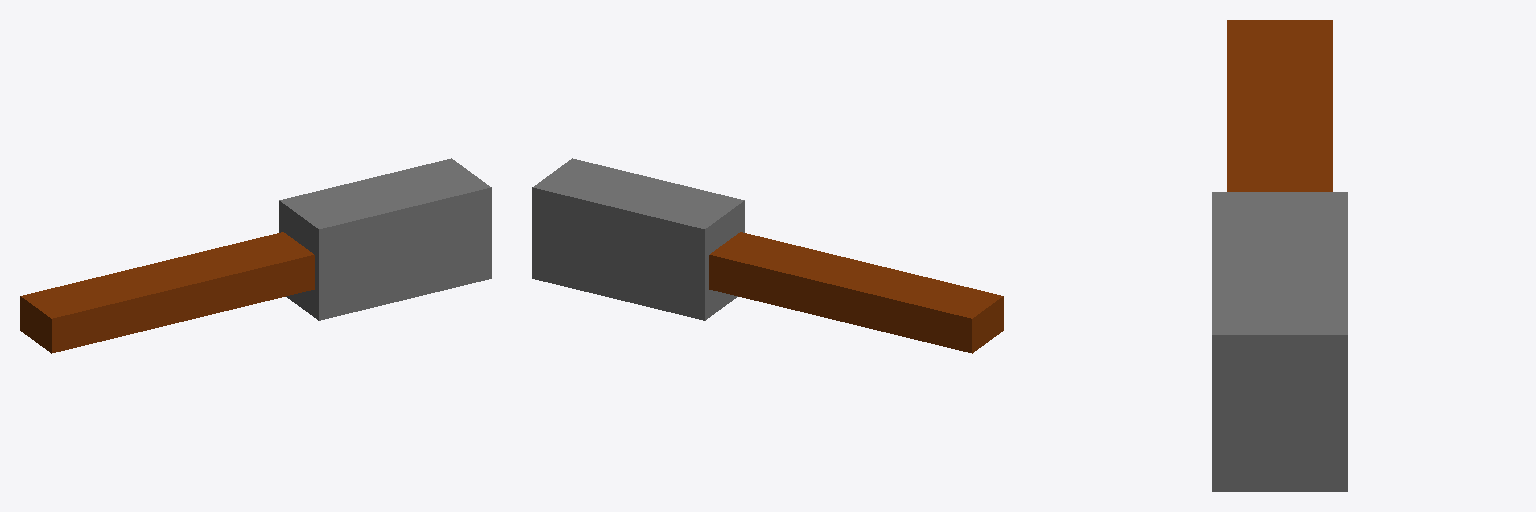
robot.urdf — handle_head:
<?xml version="1.0"?>
<robot name="handle_head">

  <link name="handle_head">
    <!-- Handle -->
    <visual>
              <origin xyz="0 0 0" rpy="0 0 0"/>
        <geometry>
          <box size="0.17683162306074118 0.03630532091203213 0.022363870697693113"/>
        </geometry>
        
      <material name="brown">
        <color rgba="0.55 0.27 0.07 1.0"/>
      </material>
    </visual>
    <collision>
              <origin xyz="0 0 0" rpy="0 0 0"/>
        <geometry>
          <box size="0.17683162306074118 0.03630532091203213 0.022363870697693113"/>
        </geometry>
        
    </collision>

    <!-- Head -->
    <visual>
              <origin xyz="0.14640592661034302 0 0" rpy="0 0 0"/>
        <geometry>
          <box size="0.11598023015994488 0.046339686630834626 0.05868996367776777"/>
        </geometry>
        
      <material name="gray">
        <color rgba="0.5 0.5 0.5 1.0"/>
      </material>
    </visual>
    <collision>
              <origin xyz="0.14640592661034302 0 0" rpy="0 0 0"/>
        <geometry>
          <box size="0.11598023015994488 0.046339686630834626 0.05868996367776777"/>
        </geometry>
        
    </collision>

    <inertial>
      <origin xyz="0.09537635942342765 0 0" rpy="0 0 0"/>
      <mass value="0.14836521239029285"/>
      <inertia ixx="5.2874580569158506e-05" iyy="0.0009950889752460015" izz="0.0009881660357426107" ixy="0" ixz="0" iyz="0"/>
    </inertial>
  </link>

</robot>

--- What the picture shows (computed from the rendered views, not written in the file) ---
Views: 3 orthographic renders of the robot side by side, from view 1: azimuth 30°, elevation 25°; view 2: azimuth 150°, elevation 25°; view 3: azimuth 270°, elevation 25°.
Model handle_head with 1 links and 0 joints (none), rooted at handle_head, posed all joints at 0.
Visible links, largest first — view 1: handle_head; view 2: handle_head; view 3: handle_head.
Link boxes in pixels (x1,y1,x2,y2): handle_head: (20,158,491,353); handle_head: (532,158,1003,353); handle_head: (1212,20,1347,491).
Bounding box of the posed robot: 0.2928 × 0.0463 × 0.0587 m (x, y, z).
Geometry: primitives only (box / cylinder / sphere), no mesh files.
